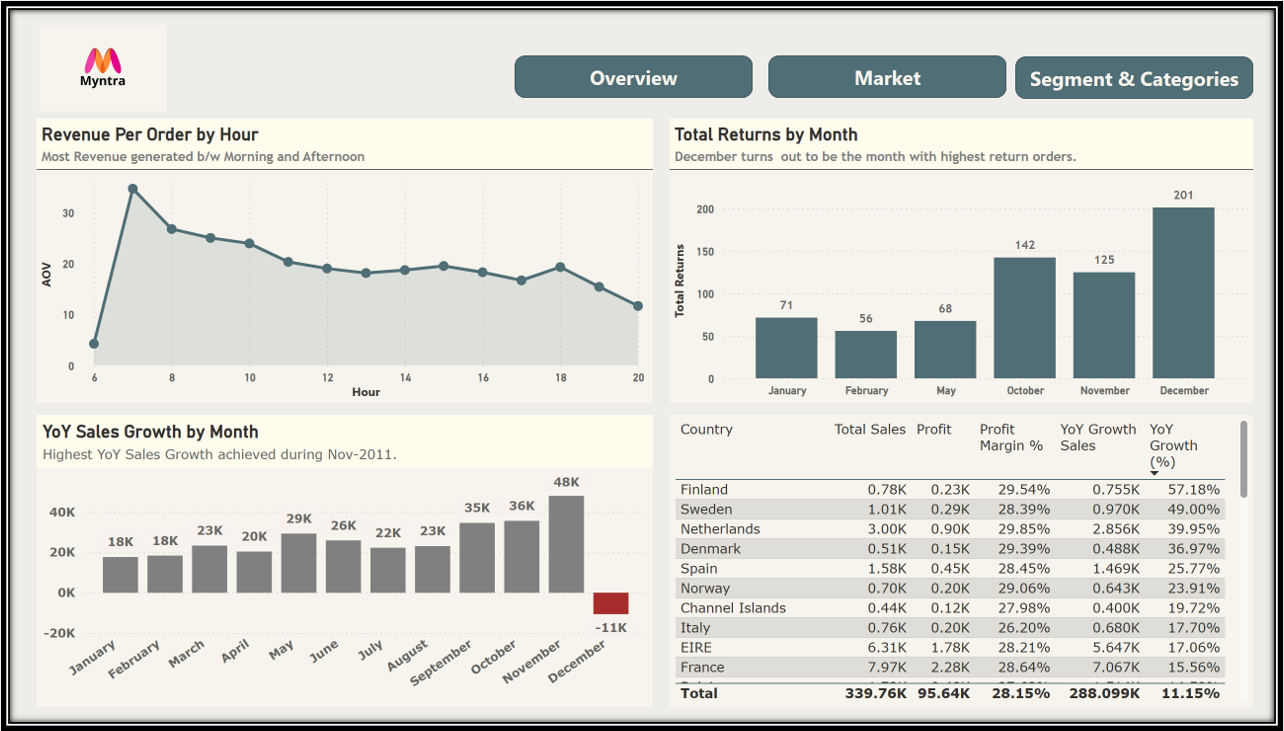

Layout of this report page (visuals, bound fields, positions):
{"tool":"powerbi","page":{"name":"Market","canvas":[1280,720],"ordinal":1},"visuals":[{"type":"areaChart","title":"Revenue Per Order by Hour","fields":{"Category":["Dim Date.Hour"],"Y":["Measure Table.AOV"]},"box":[27.1,104.6,624,288],"z":0},{"type":"clusteredColumnChart","fields":{"Category":["Dim Date.InvoiceDate.Variation.Date Hierarchy.Month"],"Y":["Measure Table.Total Returns"]},"box":[668.3,104.6,590.8,288],"z":1000},{"type":"tableEx","fields":{"Values":["Dim Customer.Country","Measure Table.Total Sales","Measure Table.Profit","Measure Table.Profit Margin %","Measure Table.YoY Growth","Measure Table.YoY Growth (%)"]},"box":[668.3,404.9,590.8,296.6],"z":2000},{"type":"lineClusteredColumnComboChart","title":"YoY Sales Growth by Month","fields":{"Category":["Dim Date.InvoiceDate.Variation.Date Hierarchy.Month"],"Y":["Measure Table.YoY Growth Sales"]},"box":[27,405,624,296],"z":3000},{"type":"shape","box":[510.8,40.6,241.2,43.1],"z":4000},{"type":"shape","box":[768,40.6,241.2,43.1],"z":5000},{"type":"shape","box":[1017.8,41.8,241.2,43.1],"z":6000},{"type":"image","box":[29.8,9.9,129.1,88],"z":7000}]}

Visuals, with their boxes in screenshot pixels (x1, y1, x2, y2), scaled from the page's 1280x720 canvas onto the 1284x731 screenshot:
"Revenue Per Order by Hour" areaChart: bbox(27, 106, 653, 399)
clusteredColumnChart - Dim Date.InvoiceDate.Variation.Date Hierarchy.Month x Measure Table.Total Returns: bbox(670, 106, 1263, 399)
tableEx - Dim Customer.Country x Measure Table.Total Sales: bbox(670, 411, 1263, 712)
"YoY Sales Growth by Month" lineClusteredColumnComboChart: bbox(27, 411, 653, 712)
shape: bbox(512, 41, 754, 85)
shape: bbox(770, 41, 1012, 85)
shape: bbox(1021, 42, 1263, 86)
image: bbox(30, 10, 159, 99)
